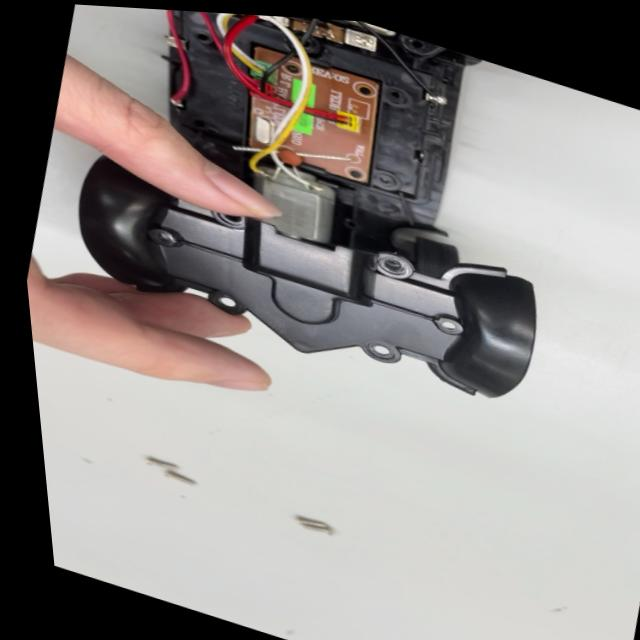motor_cover: (48, 146, 557, 414)
